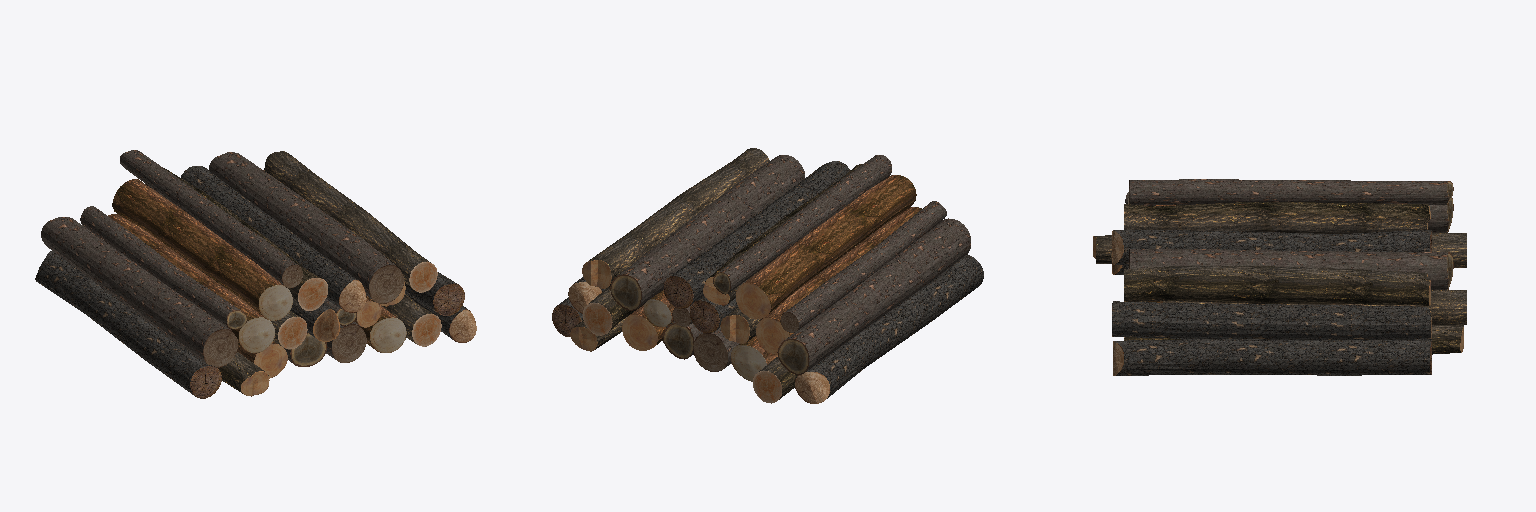
The picture shows the model from 3 angles: view 1: azimuth 30°, elevation 25°; view 2: azimuth 150°, elevation 25°; view 3: azimuth 270°, elevation 25°; orthographic projection.
Parts seen in each view (by area): view 1: log_pile; view 2: log_pile; view 3: log_pile.
Part boxes in pixels (x1,y1,x2,y2): log_pile: (35,150,476,398); log_pile: (552,148,983,403); log_pile: (1093,179,1466,375).
Bounding box in the file's own units: 3.43 × 1.3 × 3.9.
Materials: 1 (1 with a texture image).